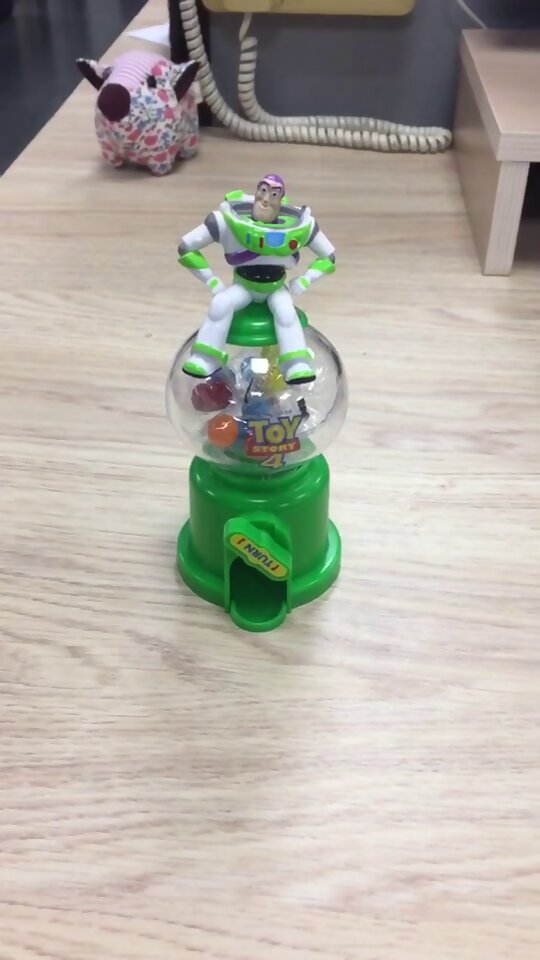buzz: (164, 172, 353, 636)
